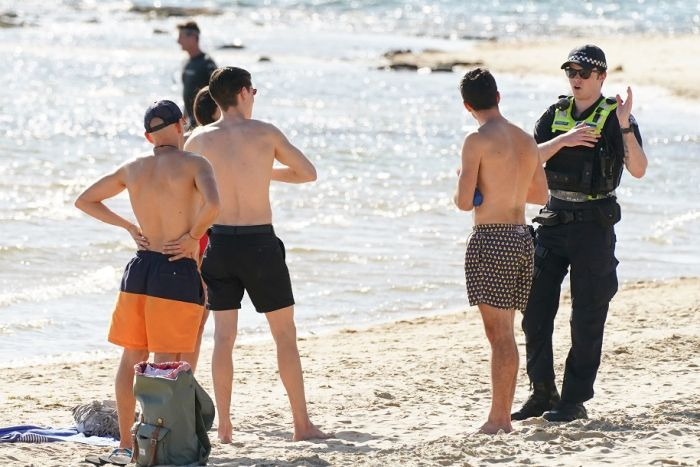Person: (201, 66, 331, 439), (547, 44, 649, 420), (75, 100, 216, 364), (454, 68, 549, 431)
